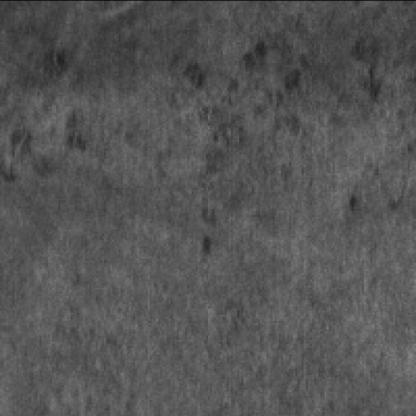rolled-in_scale: (169, 16, 401, 168), (0, 98, 94, 181)
